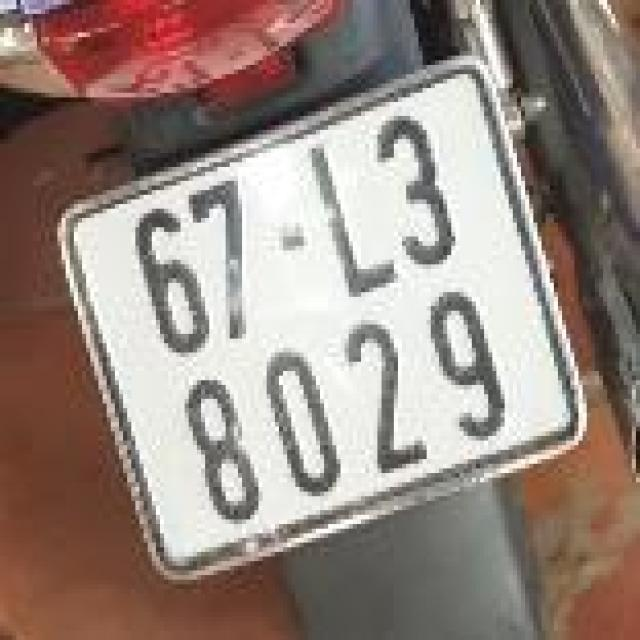0: (252, 330, 356, 506)
2: (334, 301, 440, 484)
3: (362, 98, 474, 278)
6: (125, 200, 220, 360)
7: (184, 169, 271, 356)
8: (171, 365, 276, 538)
9: (411, 271, 524, 458)
L: (299, 128, 407, 314)
